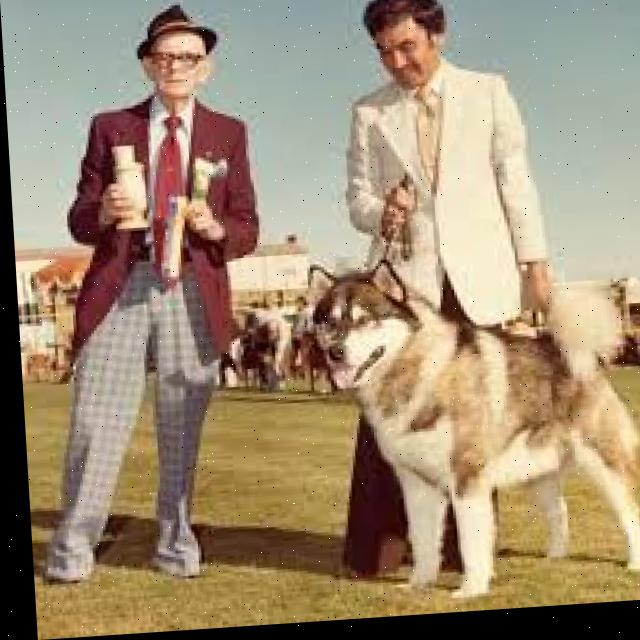ALASKAN_MALAMUTE: (291, 215, 640, 616)
